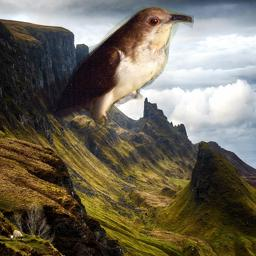Cuckoo: (30, 6, 194, 126)
